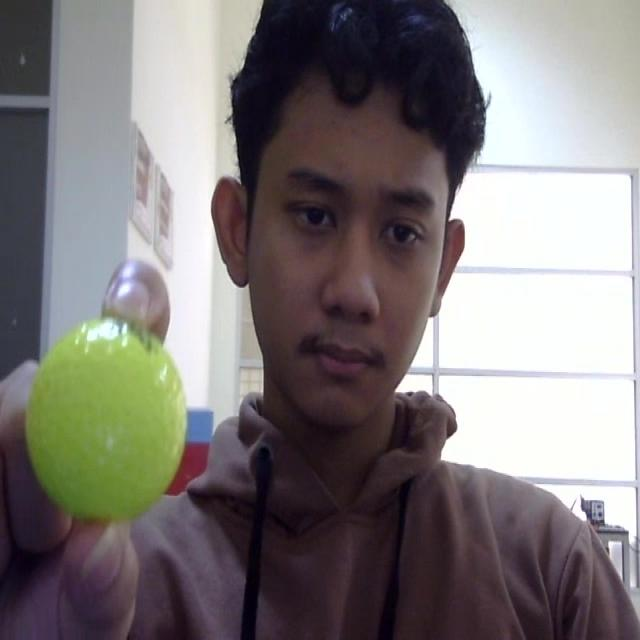golfball: (27, 316, 186, 520)
